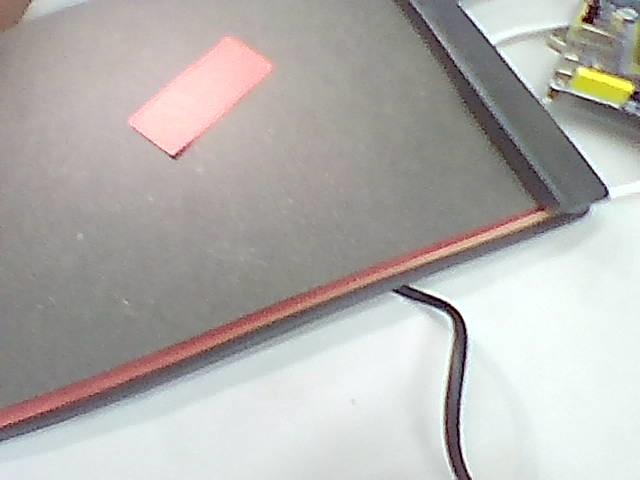card: (129, 37, 271, 156)
